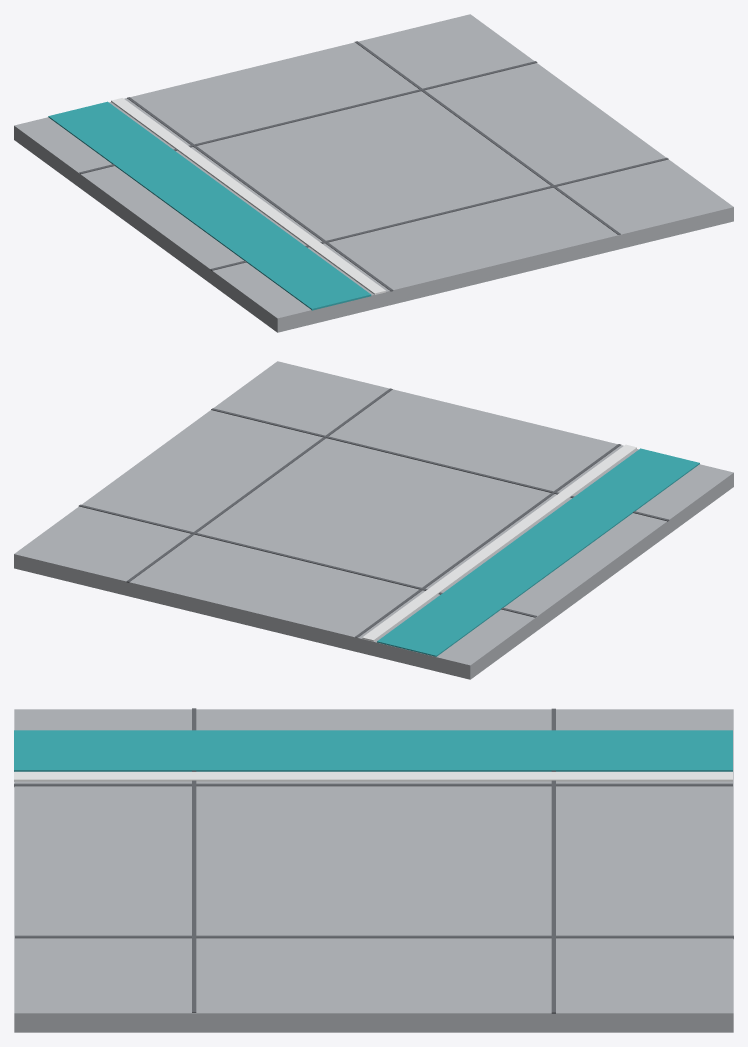
File: clinical-floor-tile.glb
3 renders of one model, top to bottom at view 1: azimuth 30°, elevation 25°; view 2: azimuth 150°, elevation 25°; view 3: azimuth 270°, elevation 25°, orthographic. The views are drawn at different scales.
Parts seen in each view (by area): view 1: clinical-floor-tile; view 2: clinical-floor-tile; view 3: clinical-floor-tile.
Boxes of the visible parts, x1=… form: clinical-floor-tile: x1=14, y1=14, x2=733, y2=332; clinical-floor-tile: x1=14, y1=361, x2=733, y2=679; clinical-floor-tile: x1=14, y1=708, x2=733, y2=1032.
Size of the model in its own units: 2 by 0.0661 by 2.
